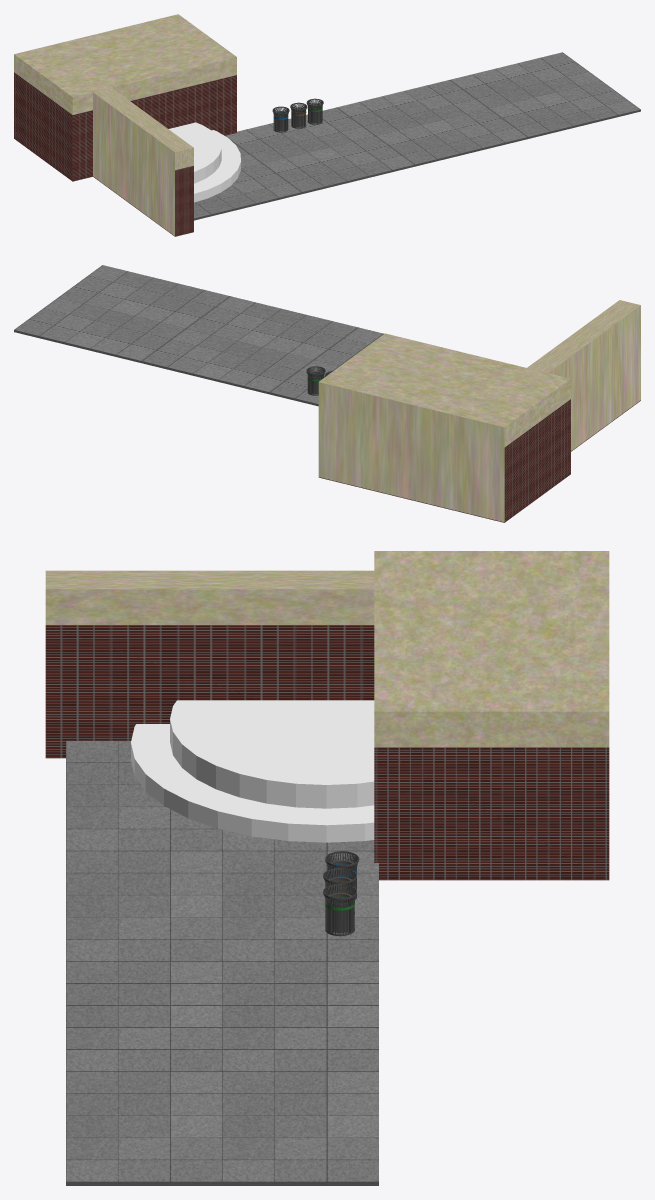
File: Section9.glb
The picture shows the model from 3 angles, top to bottom: view 1: azimuth 30°, elevation 25°; view 2: azimuth 150°, elevation 25°; view 3: azimuth 270°, elevation 25°; orthographic projection. The views are drawn at different scales.
Parts seen in each view (by area): view 1: Cube.002, Cube.006, Concrete.065, Concrete.067, Concrete.081, Concrete.068, Concrete.082, Concrete.070, Concrete.066, Cylinder.001, Cylinder, Recycle.003 (+2 smaller); view 2: Cube.002, Cube.006, Concrete.068, Concrete.082, Concrete.081, Concrete.065, Concrete.070, Concrete.067, Compost.005; view 3: Cube.002, Cube.006, Cylinder.001, Concrete.082, Concrete.081, Concrete.065, Concrete.068, Concrete.067, Concrete.070, Concrete.066, Cylinder, Concrete.069 (+1 smaller).
Boxes of the visible parts, x1,y1,x2,y2 form: Cube.002: [14, 14, 236, 181]; Cube.006: [86, 79, 193, 236]; Concrete.065: [376, 108, 527, 166]; Concrete.067: [263, 136, 414, 193]; Concrete.081: [489, 81, 640, 138]; Concrete.068: [337, 80, 488, 135]; Concrete.082: [450, 52, 601, 108]; Concrete.070: [225, 107, 374, 163]; Concrete.066: [194, 163, 301, 220]; Cylinder.001: [168, 122, 221, 183]; Cylinder: [194, 130, 240, 202]; Recycle.003: [272, 106, 289, 132]; Cube.002: [318, 333, 570, 522]; Cube.006: [513, 300, 640, 451]; Concrete.068: [142, 328, 313, 394]; Concrete.082: [14, 297, 185, 363]; Concrete.081: [58, 265, 229, 328]; Concrete.065: [186, 296, 357, 359]; Concrete.070: [269, 360, 339, 406]; Concrete.067: [314, 327, 383, 365]; Compost.005: [306, 366, 325, 395]; Cube.002: [374, 551, 609, 880]; Cube.006: [45, 570, 425, 758]; Cylinder.001: [170, 700, 374, 808]; Concrete.082: [222, 1071, 378, 1185]; Concrete.081: [66, 1071, 222, 1185]; Concrete.065: [66, 961, 222, 1071]; Concrete.068: [222, 961, 378, 1071]; Concrete.067: [66, 851, 222, 961]; Concrete.070: [222, 851, 378, 961]; Concrete.066: [66, 740, 222, 850]; Cylinder: [131, 724, 374, 842]; Concrete.069: [222, 830, 374, 850].
Bounding box in the file's own units: 86.91 × 14.28 × 43.17.
10 materials, 3 textured.
